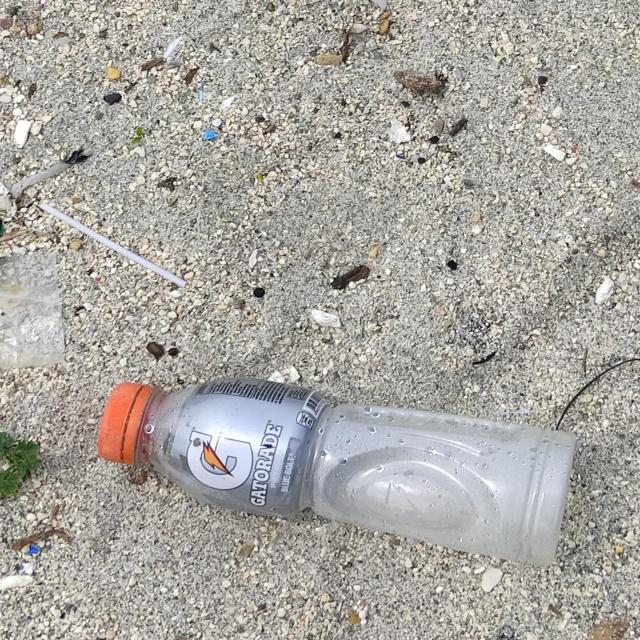plastic_waste: (100, 375, 576, 569), (39, 203, 188, 289)
